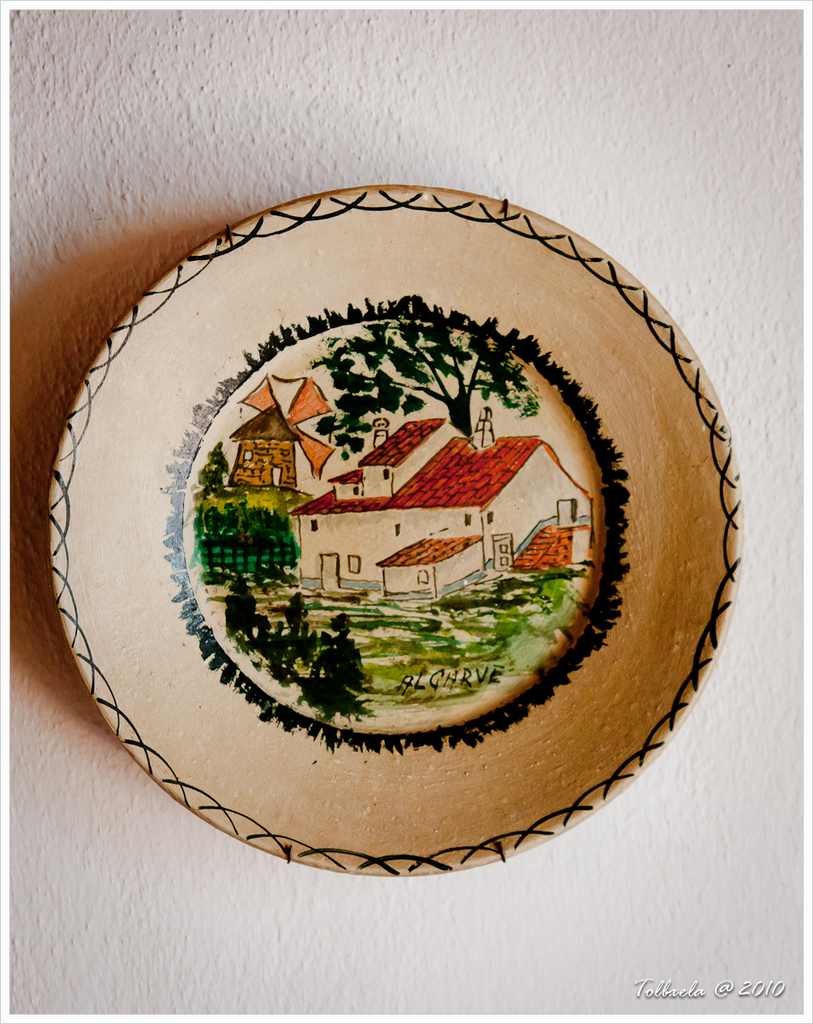plate: (48, 184, 743, 877)
